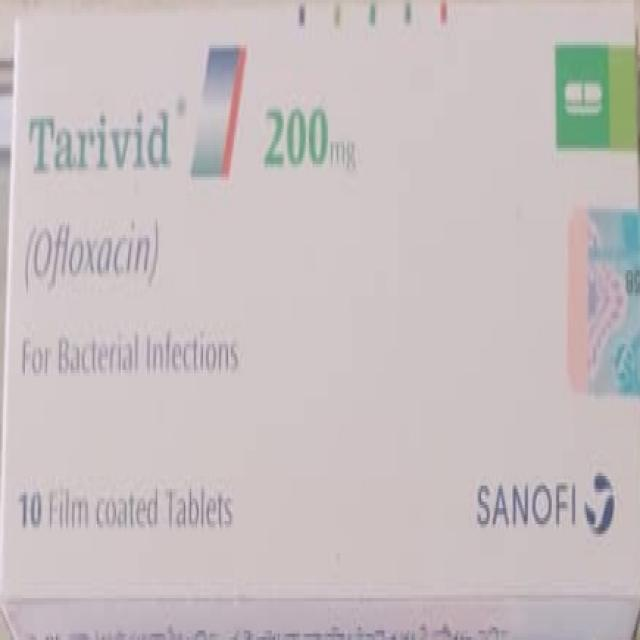drug-name: (24, 106, 172, 172)
